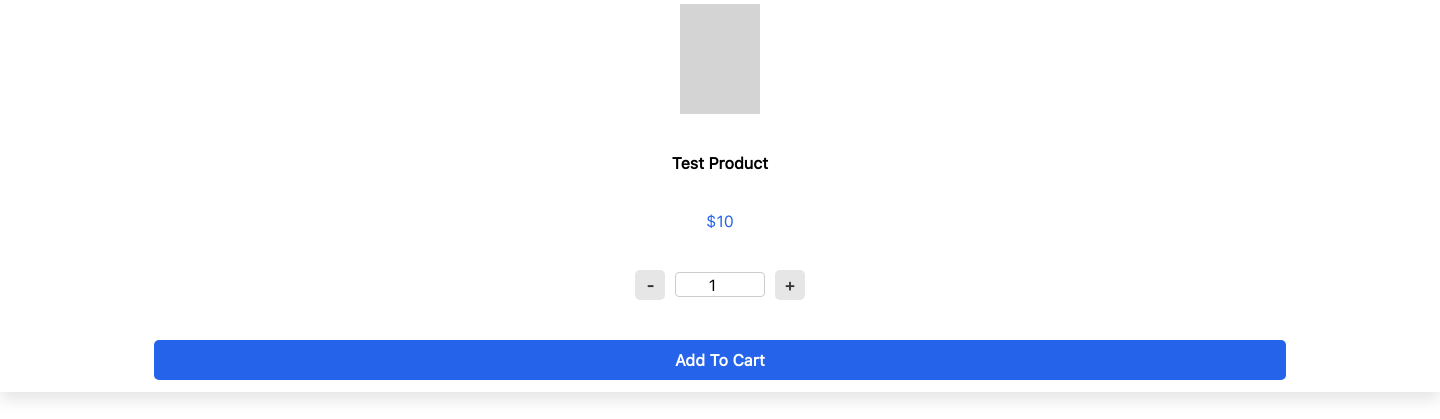
Test: ShopItem component › increase input quantity when click + button
The width and height of the screenshot is (1440, 419).
Click the button "+" at x=790, y=285, box [775, 270, 805, 300]
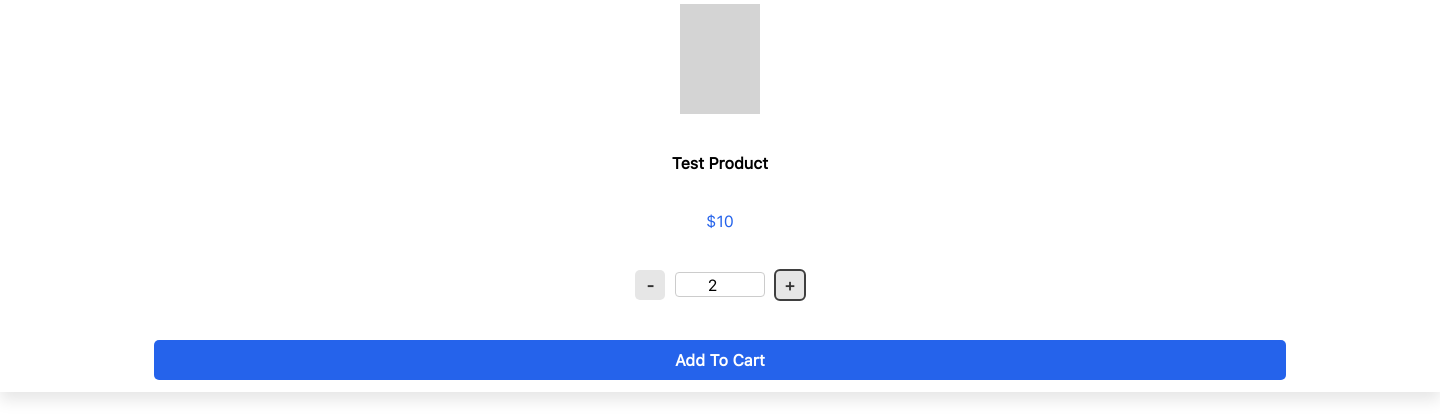
Expected: the number field holds "2", [675, 272, 765, 297]
